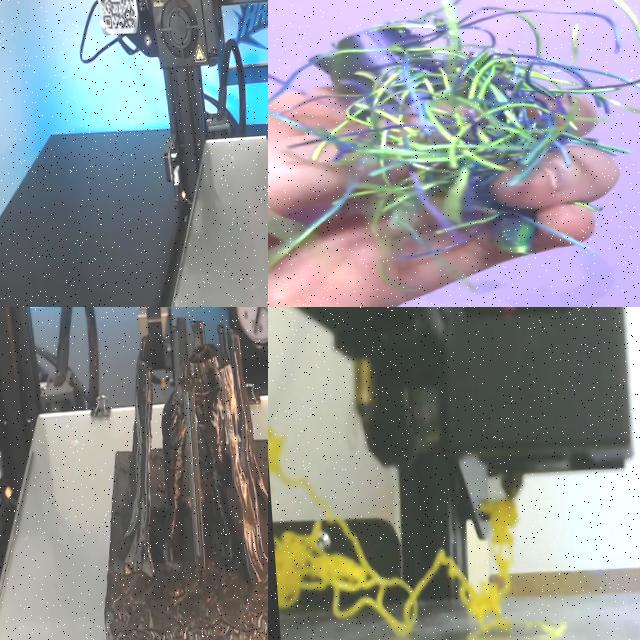spaghetti: (268, 12, 640, 199), (268, 429, 565, 640)
